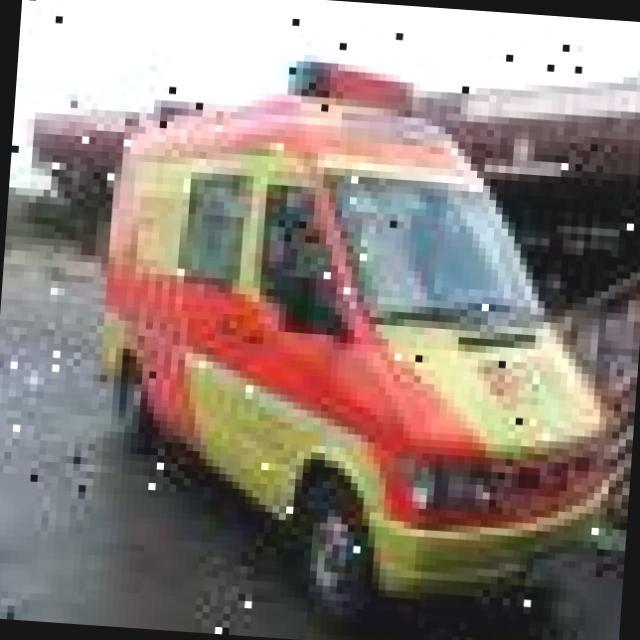emergency-vehicle: (82, 41, 637, 640)
